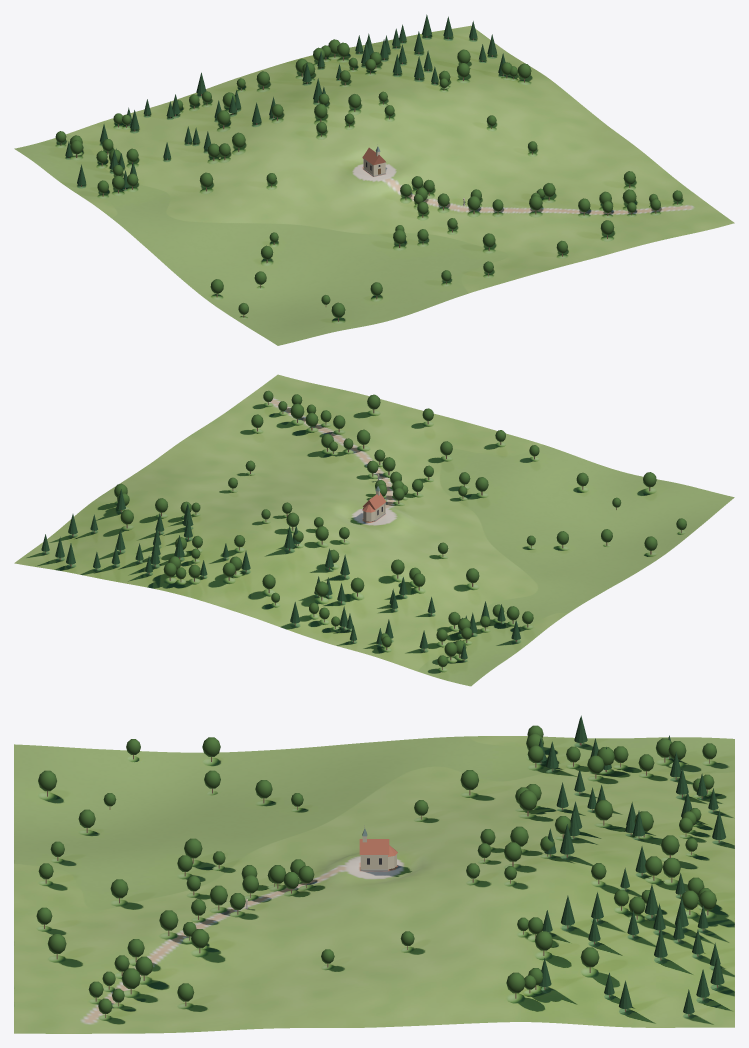
File: scena.glb
3 renders of one model, top to bottom at view 1: azimuth 30°, elevation 25°; view 2: azimuth 150°, elevation 25°; view 3: azimuth 270°, elevation 25°, orthographic. The views are drawn at different scales.
Parts seen in each view (by area): view 1: teren_web; view 2: teren_web; view 3: teren_web.
Part boxes in pixels (left/top/right/bottom): teren_web: left=14, top=25, right=734, bottom=345; teren_web: left=14, top=374, right=734, bottom=686; teren_web: left=14, top=736, right=734, bottom=1033.
Bounding box in the file's own units: 240 × 35.69 × 240.
Materials: 10 (1 with a texture image).
